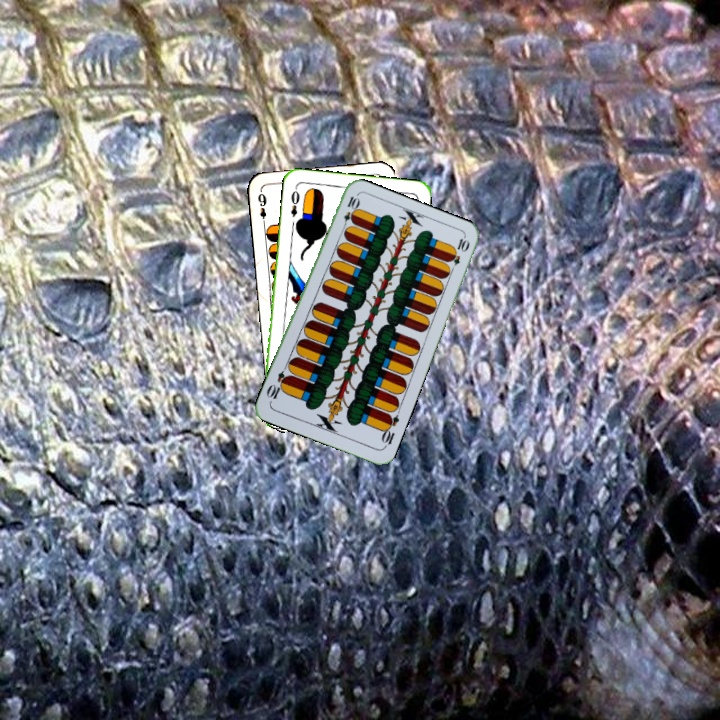E10: (377, 410, 402, 450), (338, 192, 361, 232)
E9: (254, 189, 269, 228)
EO: (287, 183, 302, 219)
